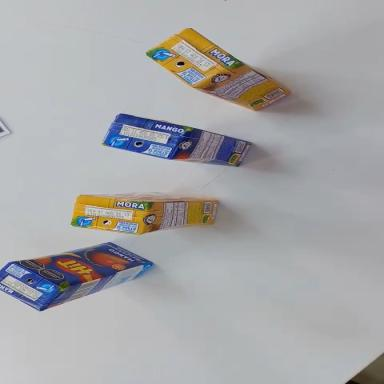HIT-MANGO: (0, 219, 155, 322), (102, 108, 251, 179)
HIT-MORA: (144, 15, 292, 133), (72, 192, 219, 239)
cara_F: (10, 225, 151, 299)
